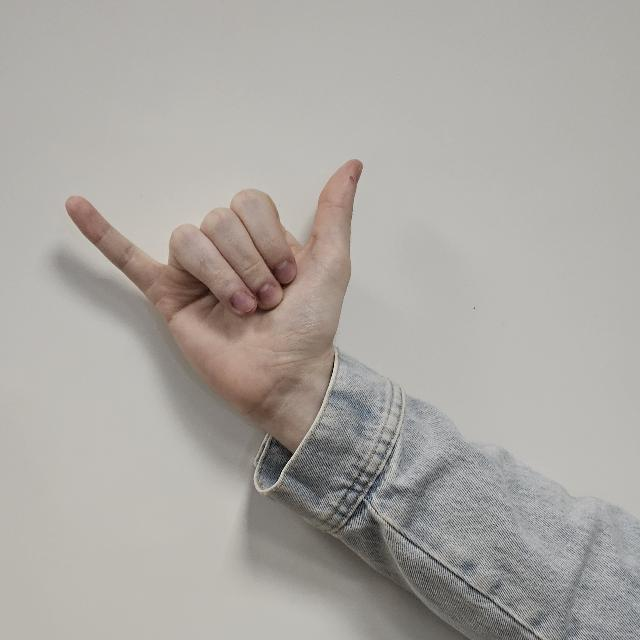Direita: (62, 148, 376, 472)
